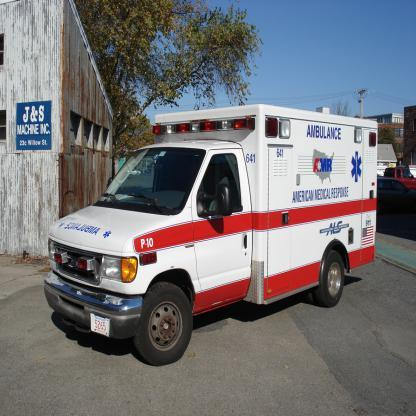truck: (45, 103, 376, 365)
